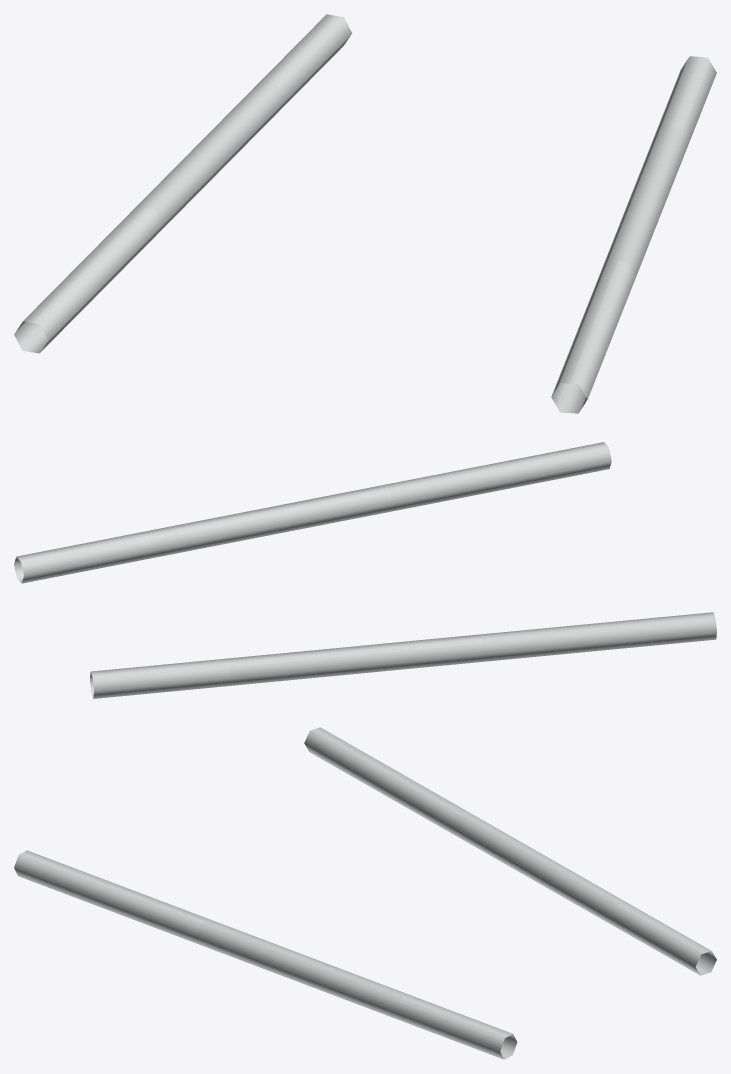
Rendered from nycsignalarm_diagonal4_c4.obj.
3 views of the same model, one above another, from view 1: azimuth 30°, elevation 25°; view 2: azimuth 150°, elevation 25°; view 3: azimuth 270°, elevation 25° (orthographic). The views are drawn at different scales.
Parts seen in each view (by area): view 1: nycsignalarm_diagonal4_c4; view 2: nycsignalarm_diagonal4_c4; view 3: nycsignalarm_diagonal4_c4.
Part boxes in pixels (x1,y1,x2,y2): nycsignalarm_diagonal4_c4: (14, 14, 716, 413); nycsignalarm_diagonal4_c4: (14, 442, 716, 698); nycsignalarm_diagonal4_c4: (14, 727, 716, 1059).
Size of the model in its own units: 1.6 by 0.0999 by 1.6.
